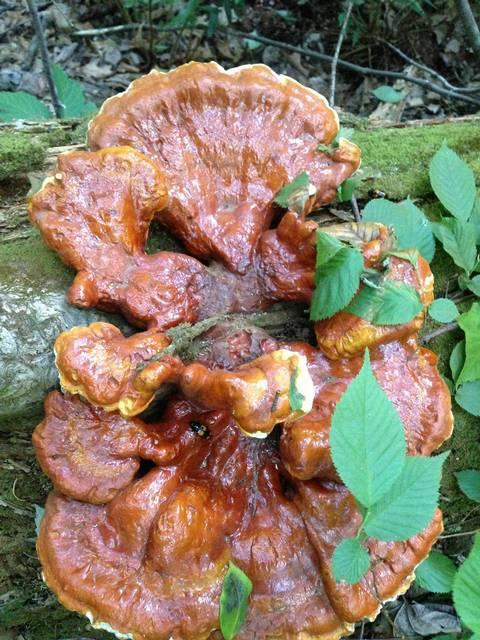Non-edible Mushroom: (28, 194, 447, 640), (27, 58, 362, 331)
